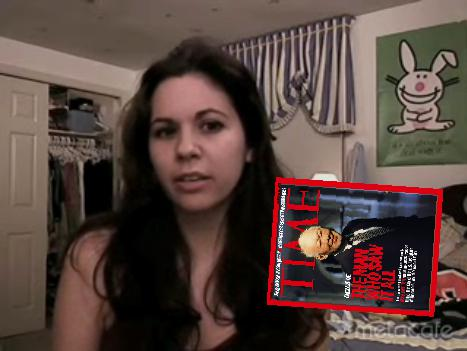times: (265, 176, 444, 316)
